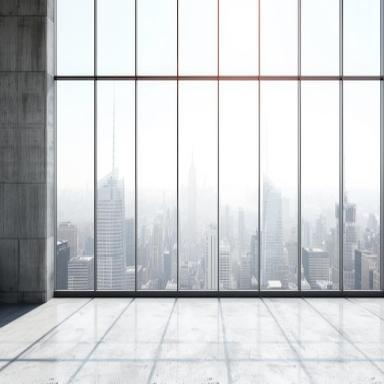glass_panel: (137, 84, 177, 289), (179, 82, 218, 290), (344, 83, 382, 290), (220, 83, 258, 289), (302, 84, 340, 290), (97, 82, 134, 289), (261, 83, 298, 289), (343, 0, 381, 77), (301, 0, 340, 75), (136, 1, 176, 74), (96, 0, 134, 75), (179, 0, 217, 74), (260, 0, 298, 74), (57, 0, 94, 75), (220, 0, 257, 74)
